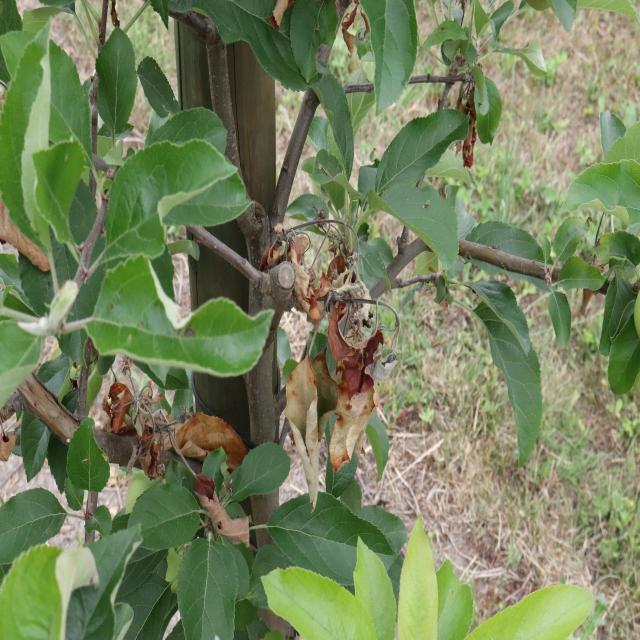-FireBlight-: (269, 233, 384, 467), (105, 389, 241, 486)
